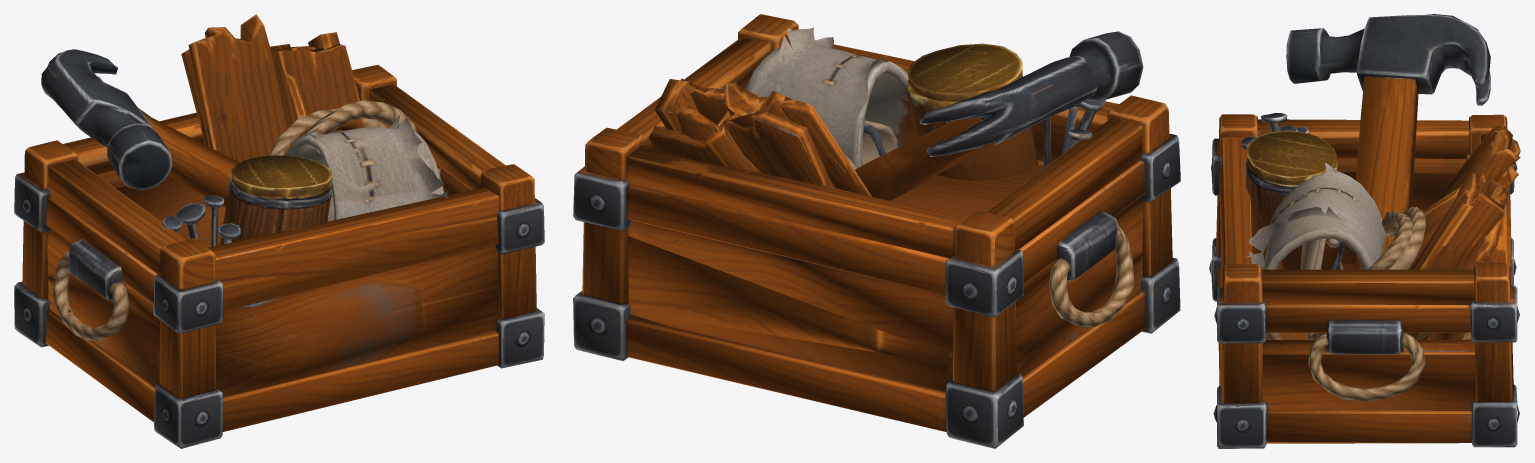
The model's file is repairKit.glb.
3 renders of one model, left to right at view 1: azimuth 30°, elevation 25°; view 2: azimuth 150°, elevation 25°; view 3: azimuth 270°, elevation 25°, orthographic. The views are drawn at different scales.
Size of the model in its own units: 1 by 0.6797 by 0.709.
1 material, 1 textured.
